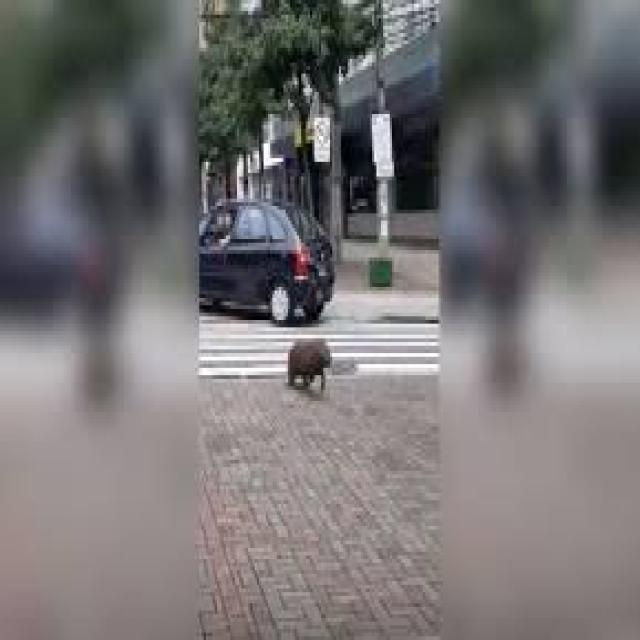capy: (286, 334, 332, 398)
